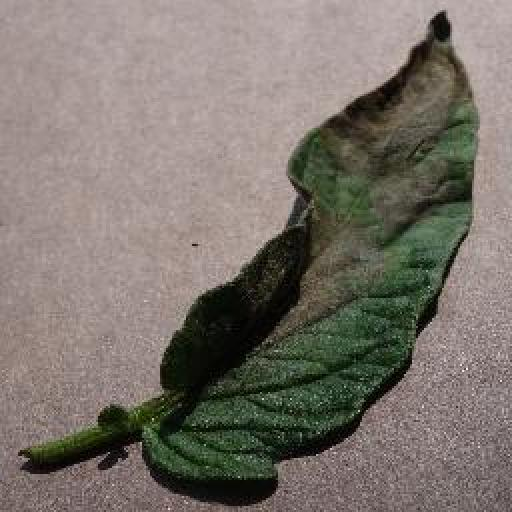Late Blight: (142, 8, 482, 483)
